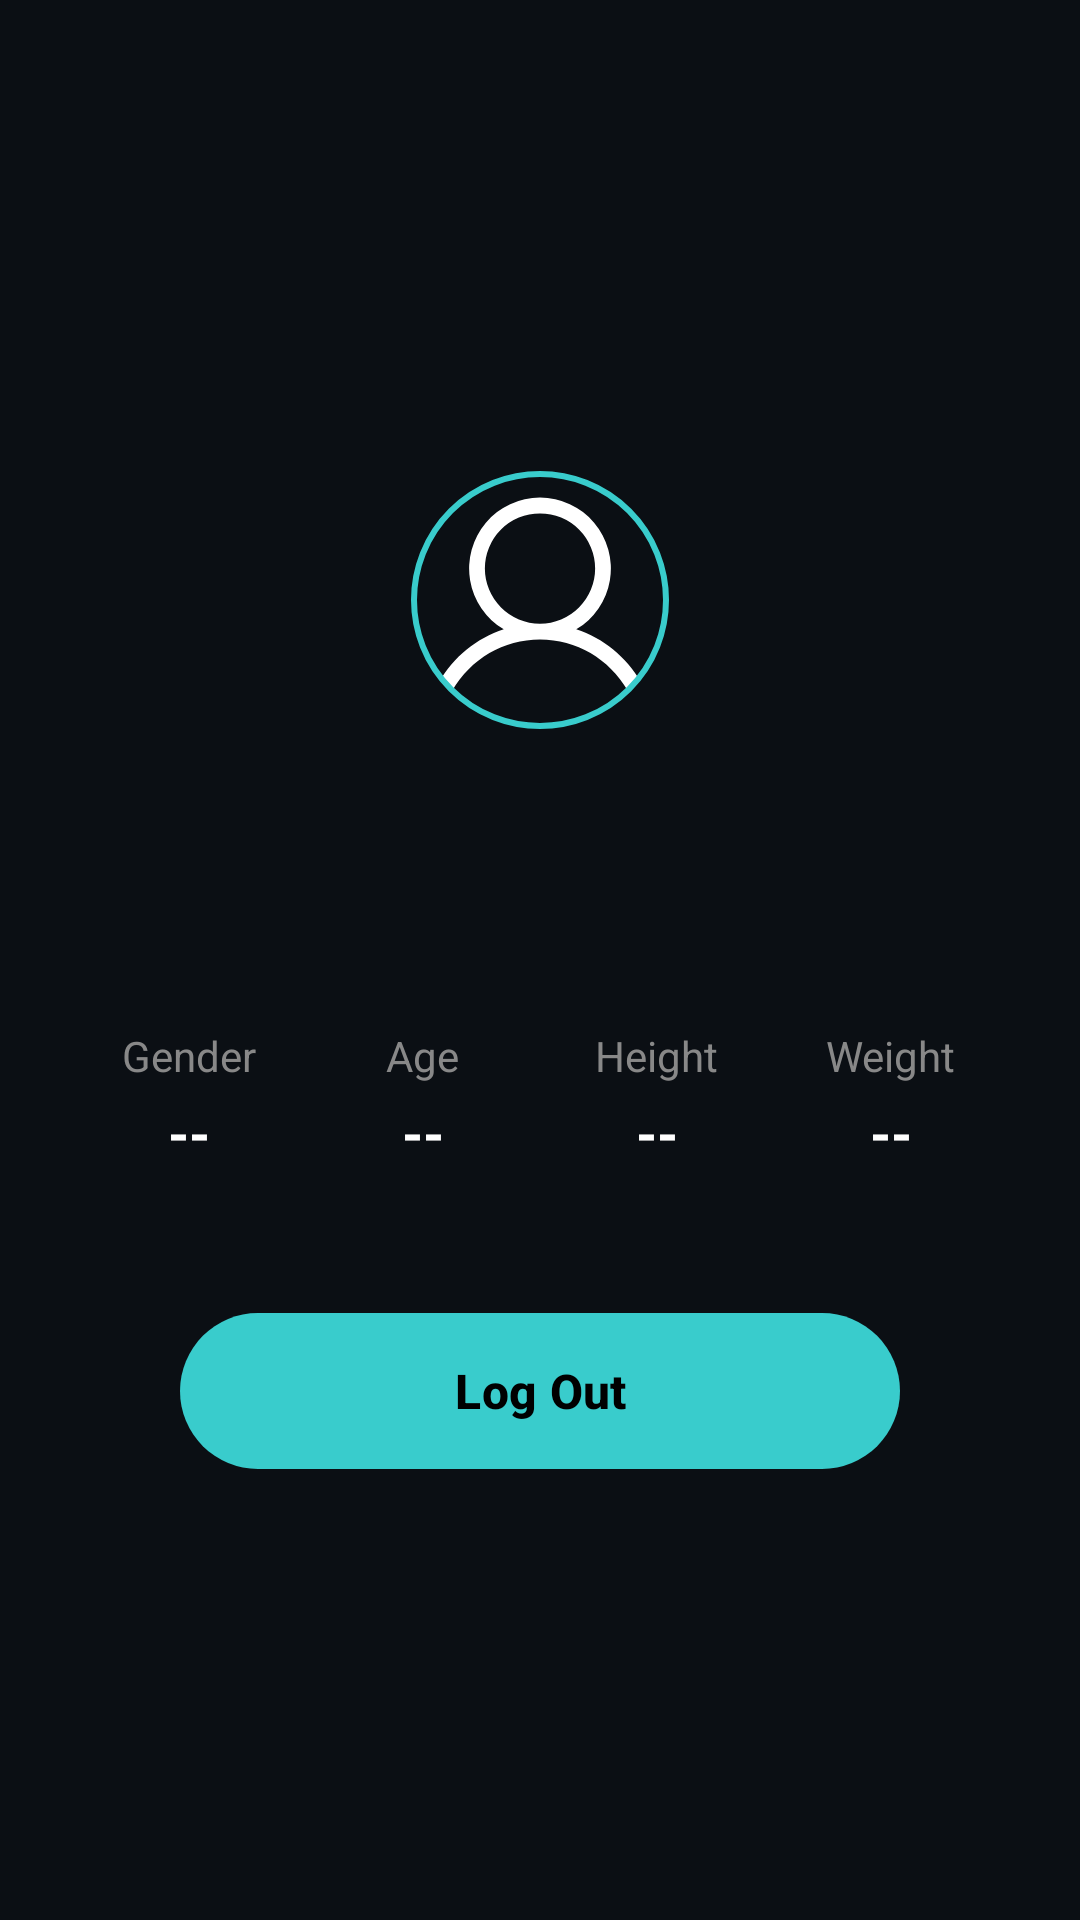

Icon click points for this 1080 × 1920 phone screenshot, format point (x, y):
Profile: point (540, 600)
